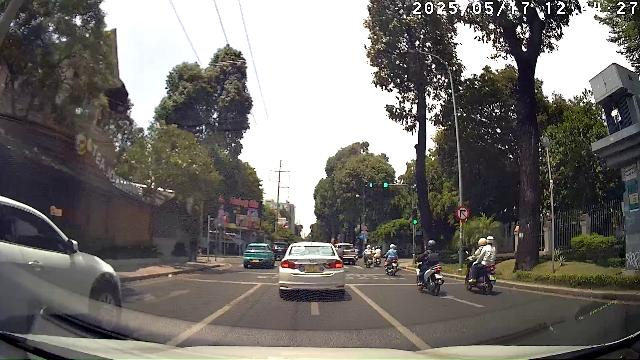123b-cam-re-phai: (456, 206, 468, 221)
